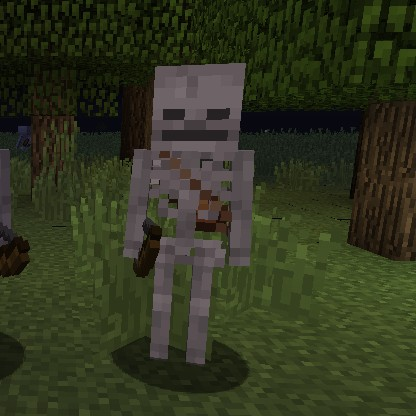skeleton: (128, 54, 258, 216)
